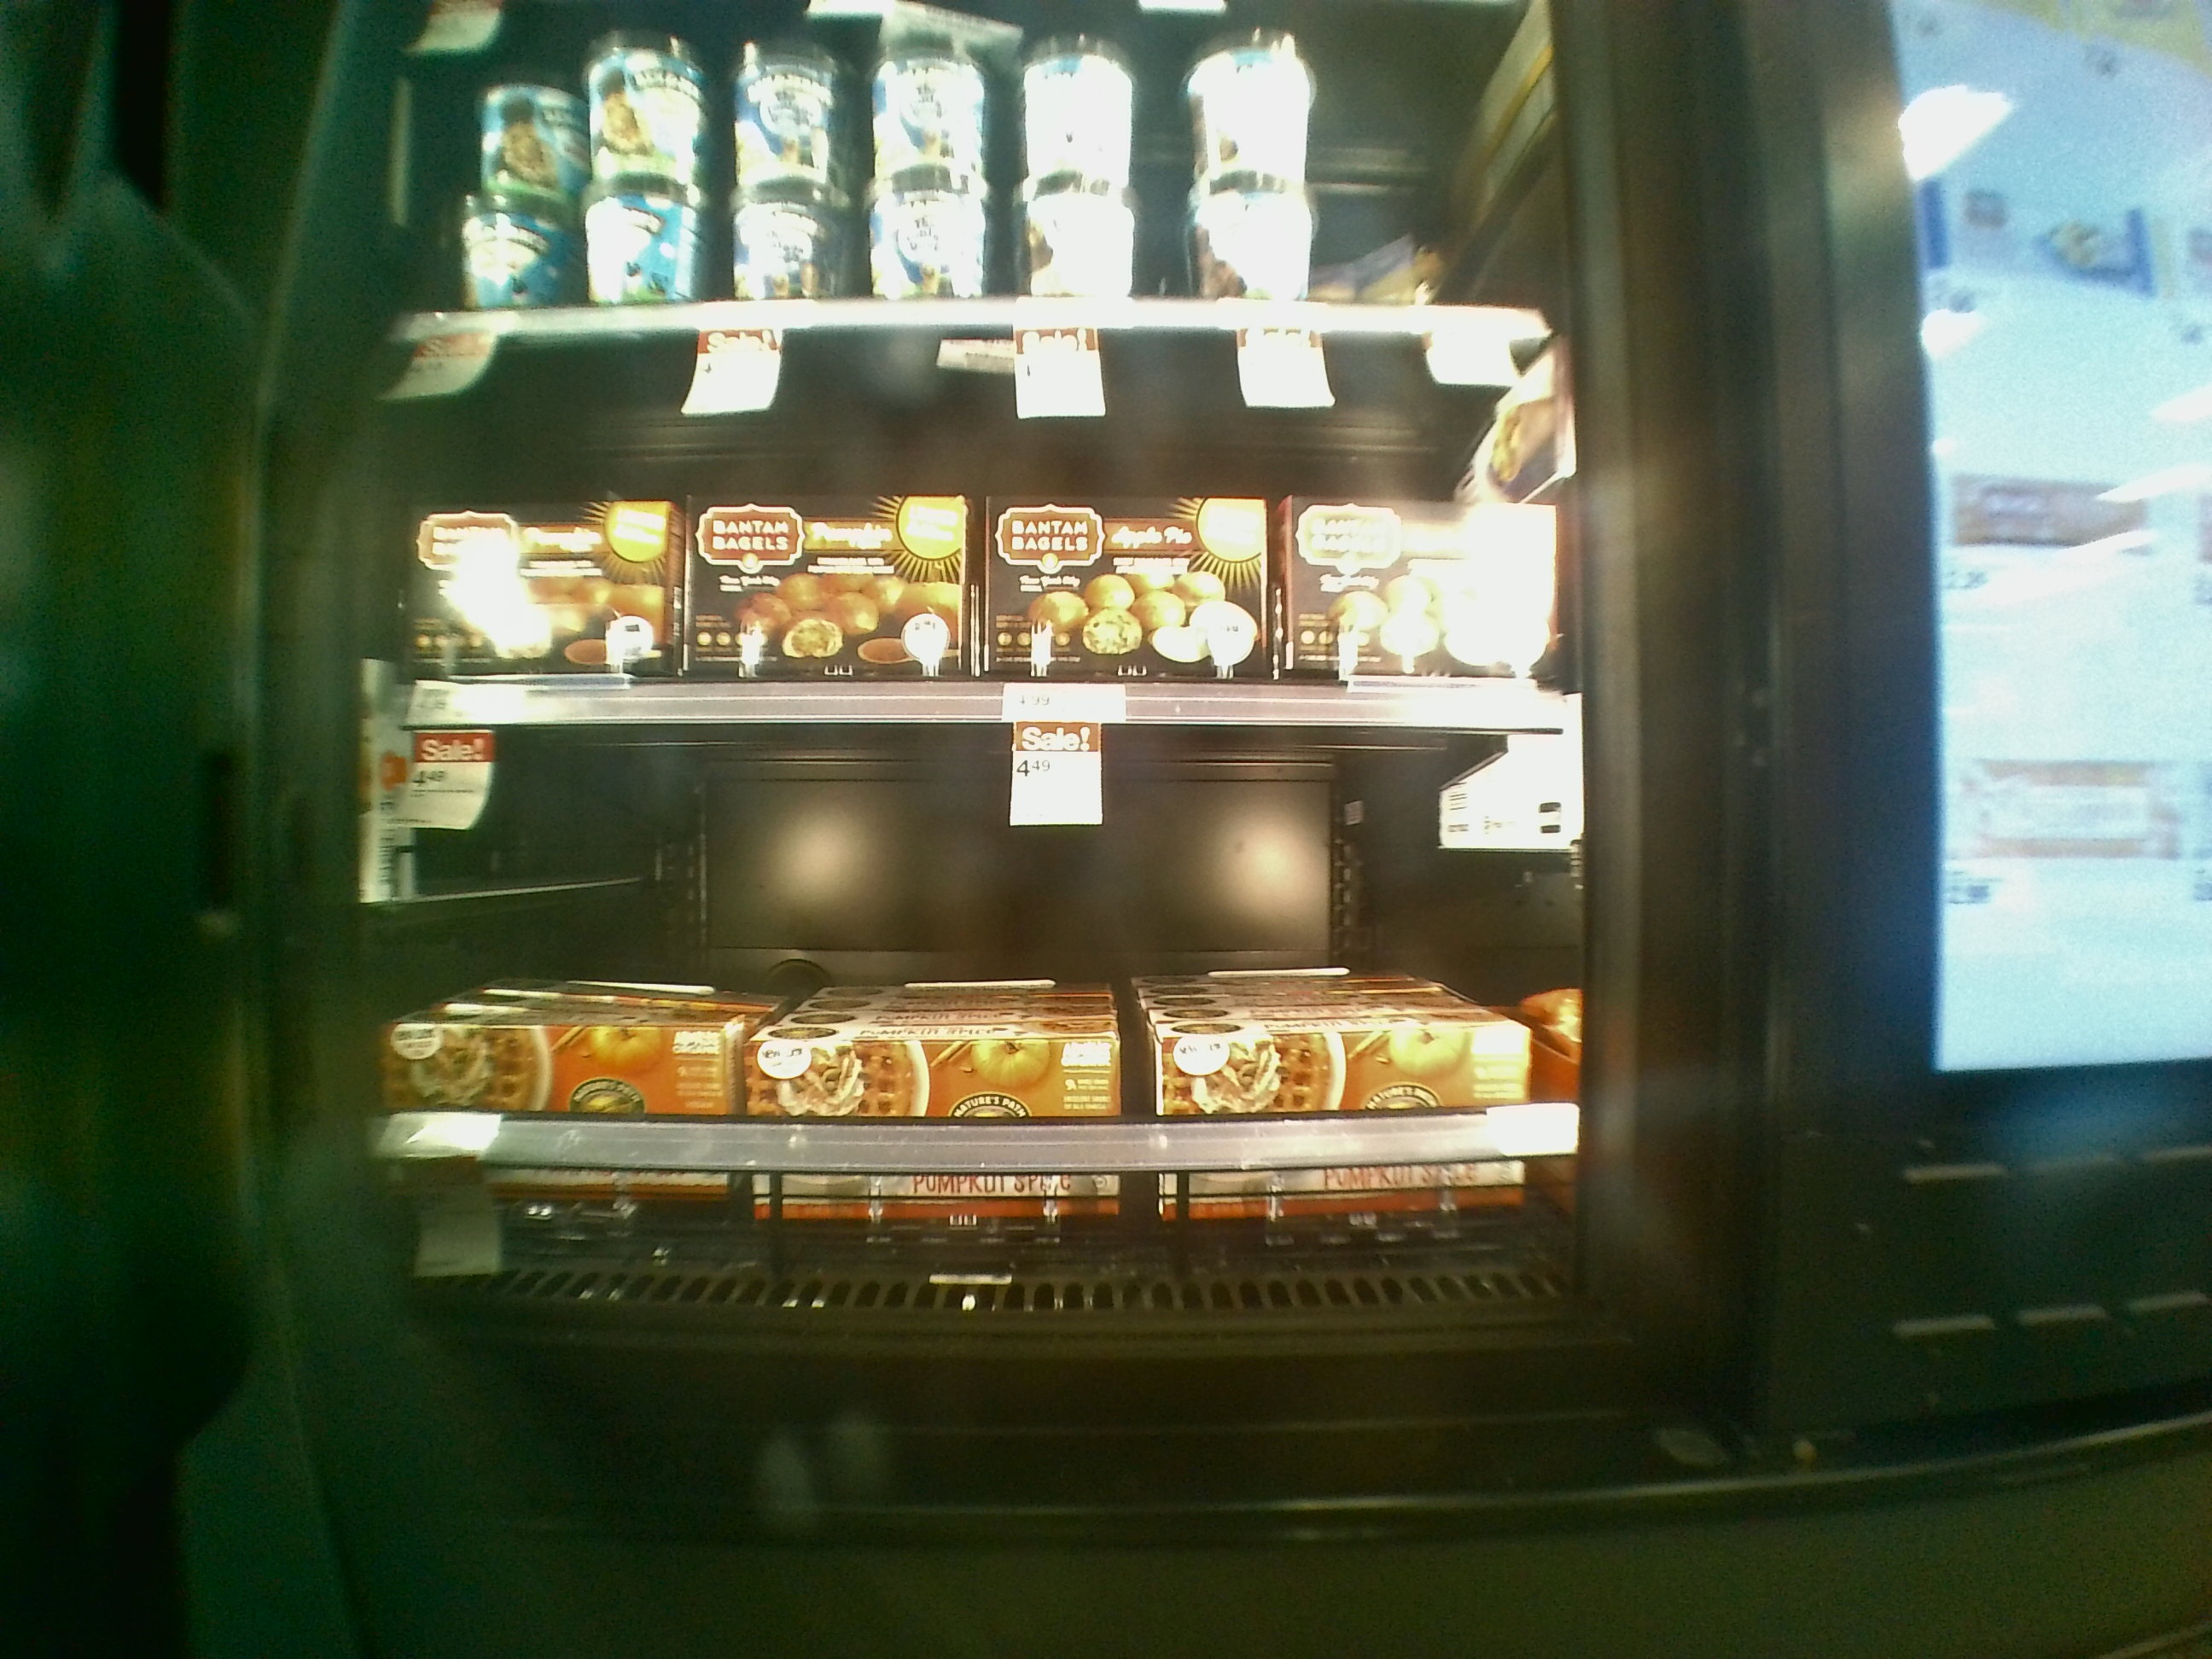shelf: (354, 718, 1594, 1351), (376, 336, 1588, 735)
